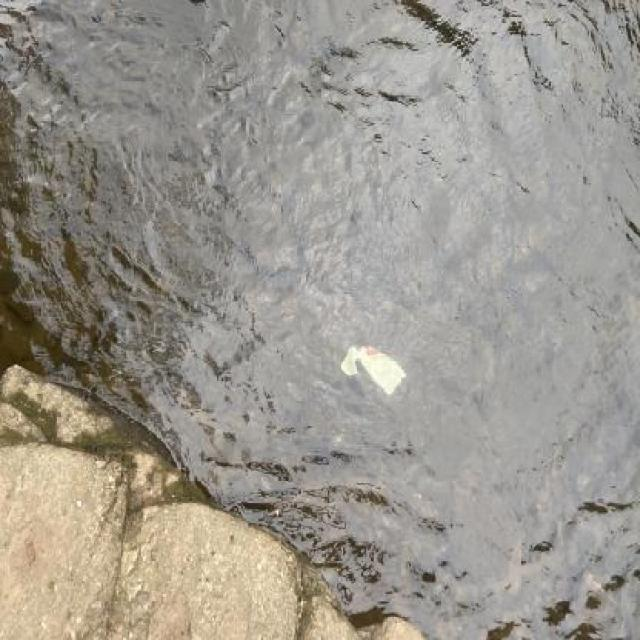Plastic: (334, 339, 408, 403)
